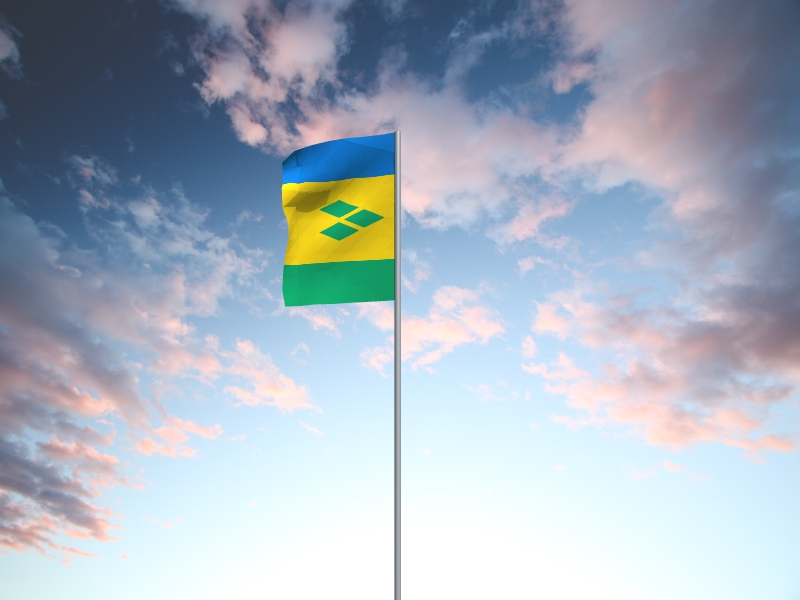vc: (281, 133, 394, 308)
